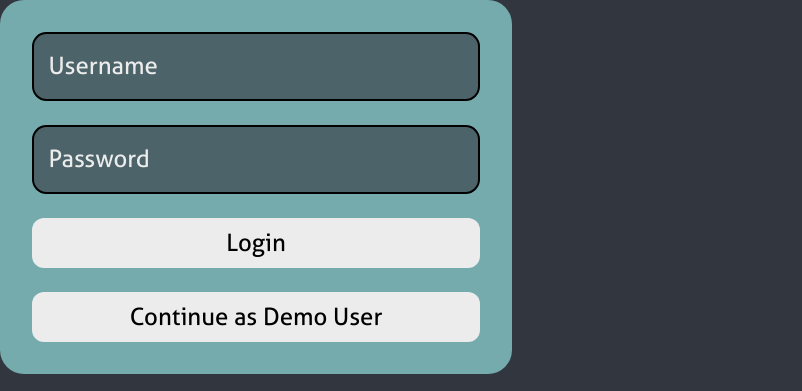
Test: <LoginForm /> › fetching logic › displays error message after failed loginAction
This screenshot has width=802, height=391.
Click the field named "Username input" at (256, 66), box [32,32,480,101]
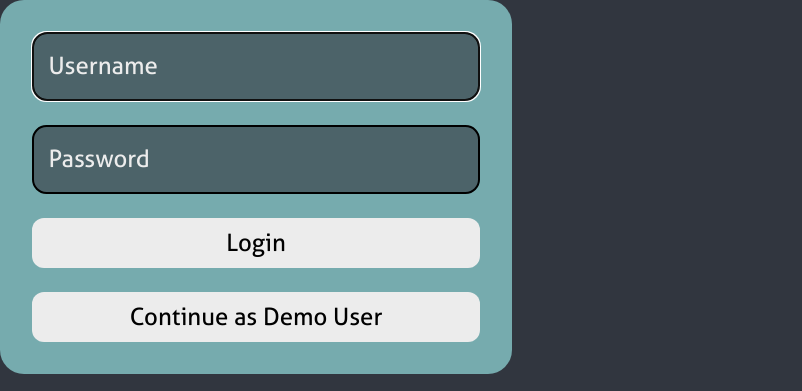
Type keys "someUsername"
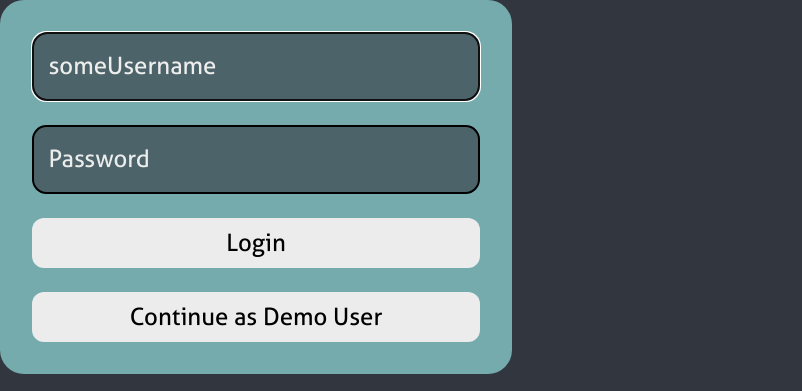
Click the password field named "Password input" at (256, 159), box [32,125,480,194]
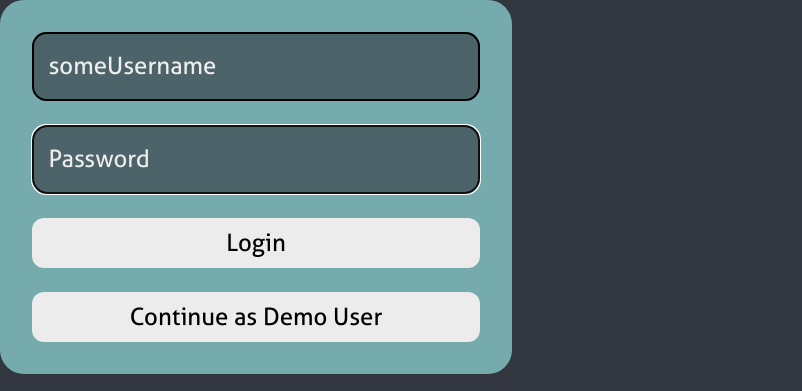
Type keys "somePassword"
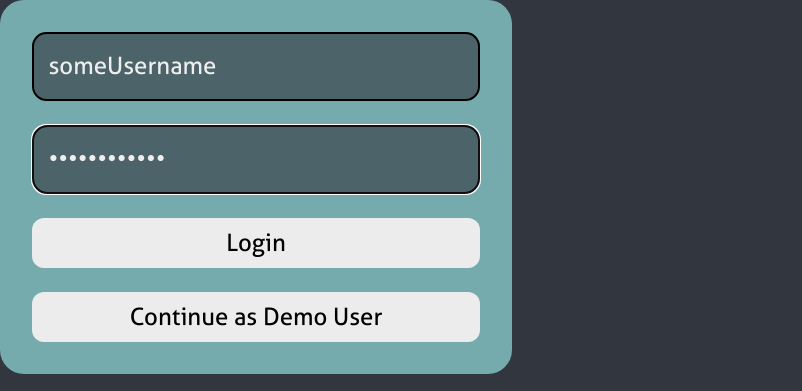
Click the button "Login" at (256, 243), box [32,218,480,268]
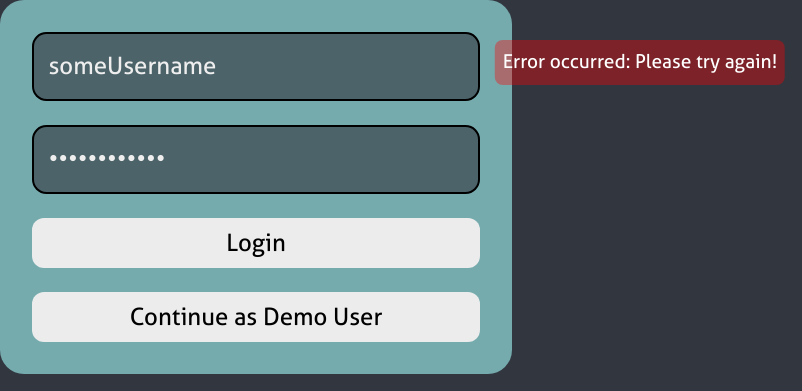
Expected: the text with test id "login-server-error" reads "Error occurred: Please try again!", [503,50,777,73]
